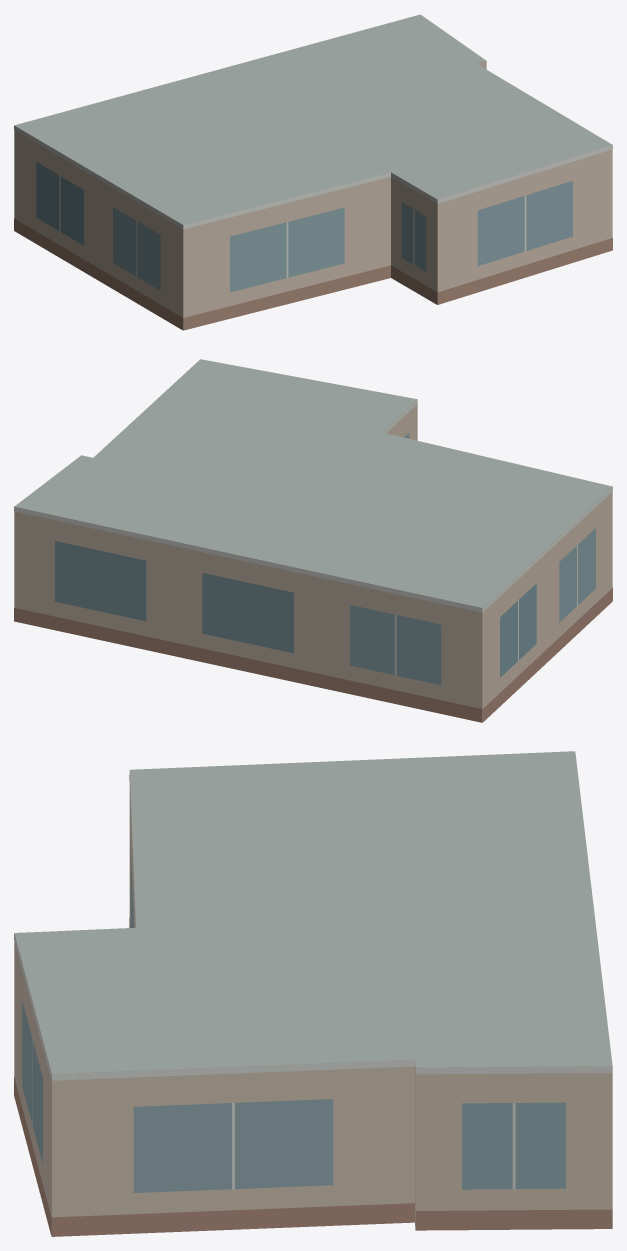
Rendered from survey-upis-32791114.glb.
3 renders of one model, top to bottom at view 1: azimuth 30°, elevation 25°; view 2: azimuth 150°, elevation 25°; view 3: azimuth 270°, elevation 25°, orthographic. The views are drawn at different scales.
Parts seen in each view (by area): view 1: survey-upis-32791114.tmp; view 2: survey-upis-32791114.tmp; view 3: survey-upis-32791114.tmp.
Boxes of the visible parts, x1,y1,x2,y2 form: survey-upis-32791114.tmp: [14, 14, 612, 330]; survey-upis-32791114.tmp: [14, 359, 612, 722]; survey-upis-32791114.tmp: [14, 751, 612, 1236].
Bounding box in the file's own units: 12.99 × 3.05 × 10.18.
